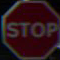Stop: (1, 2, 57, 51)
